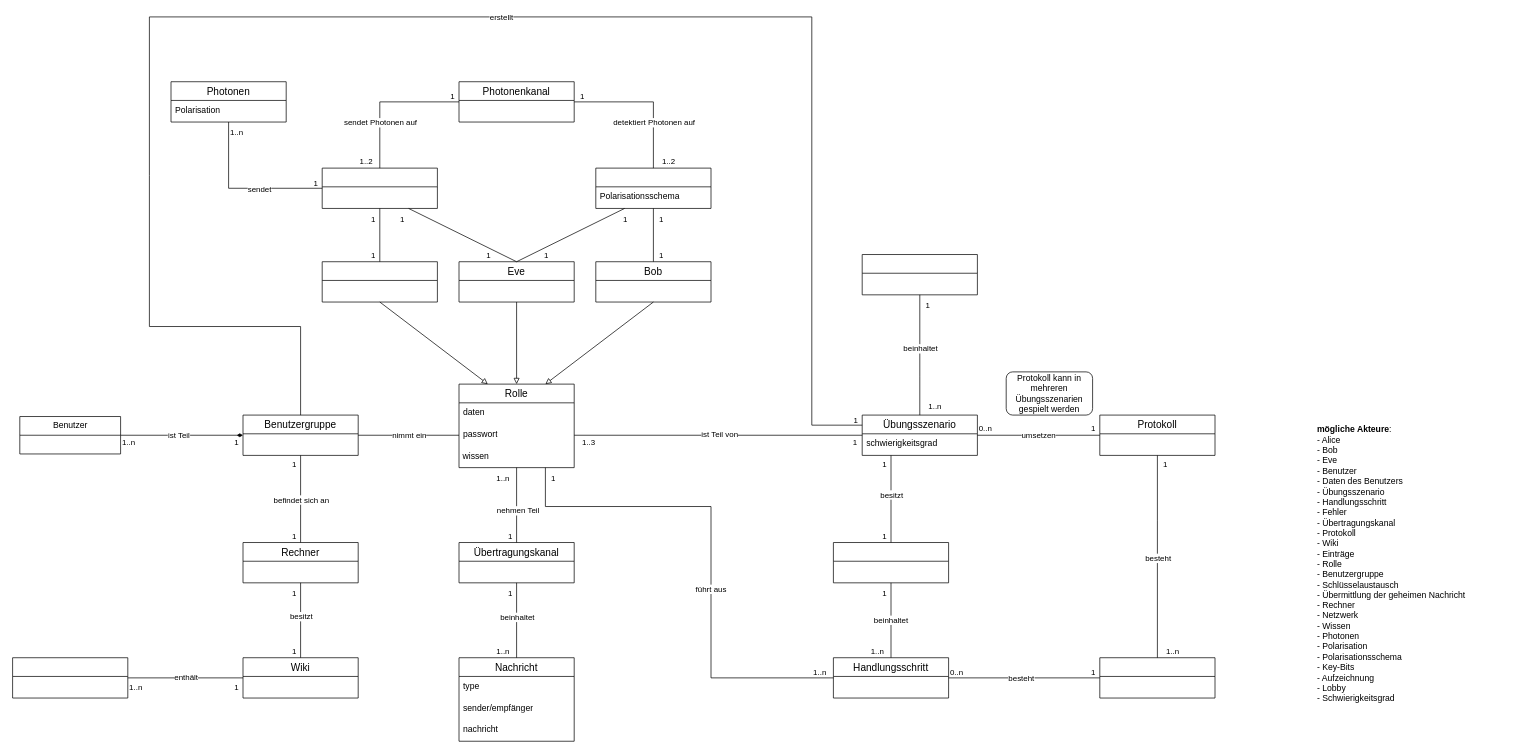
Image size: 1537x756. Some labels were removed from this diagram. The box of each missing label's shape, as (x1, y1, x2, y2) in pixels:
Alice: (321, 261, 437, 302)
Aufzeichnung: (833, 542, 949, 583)
Ausgangsszenario: (861, 254, 977, 295)
Eintrag: (12, 657, 128, 698)
Phasen: (1099, 657, 1215, 698)
Photonendetektor: (595, 167, 711, 208)
Photonenemitter: (321, 167, 437, 208)
